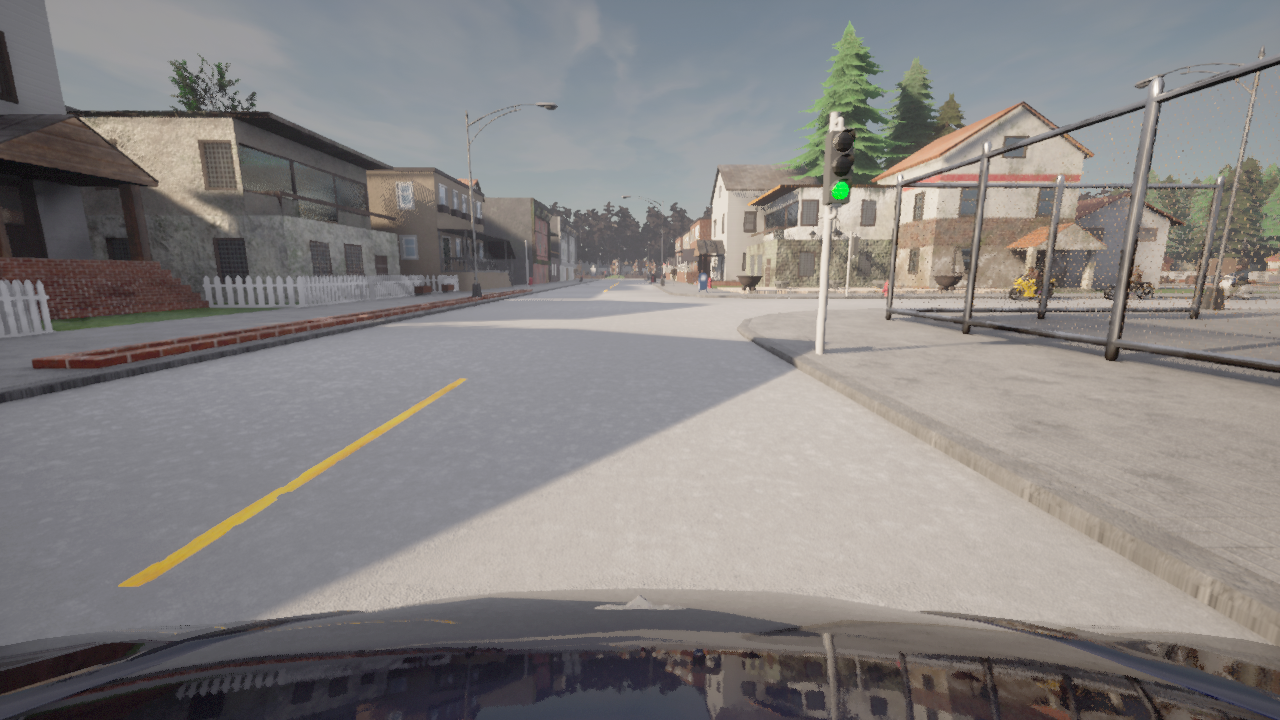cyclist: (0, 588, 1279, 719), (1102, 272, 1155, 300), (1008, 274, 1056, 299), (1219, 273, 1253, 300)
pedestrian: (669, 266, 675, 284)
